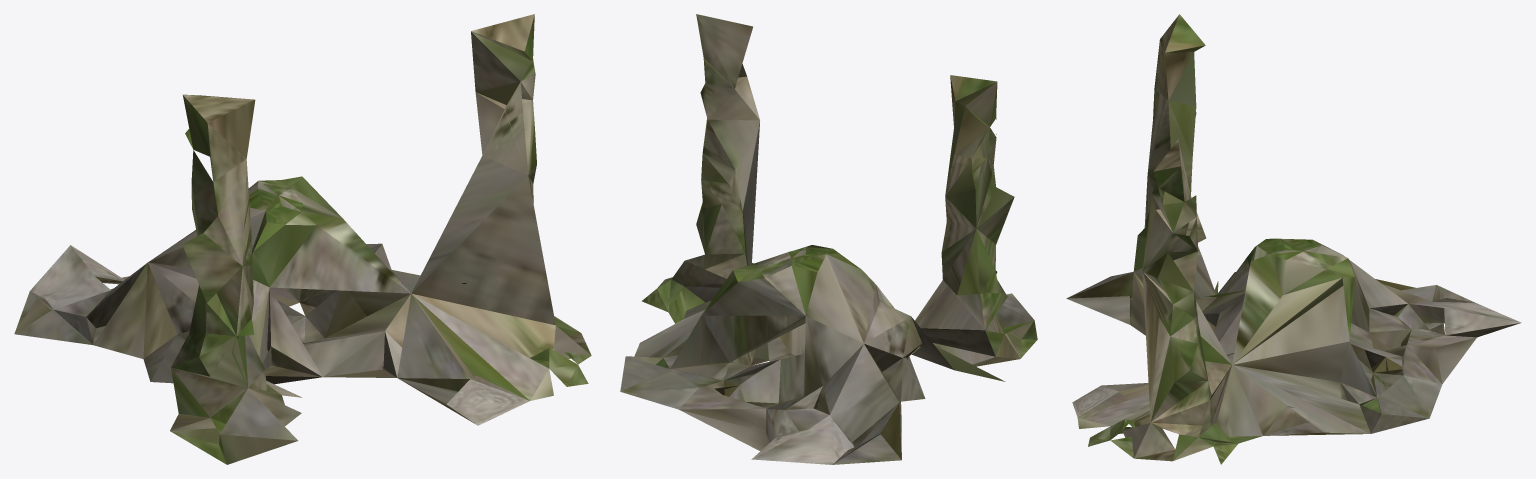
The model's file is ruin.glb.
3 renders of one model, left to right at view 1: azimuth 30°, elevation 25°; view 2: azimuth 150°, elevation 25°; view 3: azimuth 270°, elevation 25°, orthographic. The views are drawn at different scales.
Parts seen in each view (by area): view 1: ruin; view 2: ruin; view 3: ruin.
Part boxes in pixels (x1=…): ruin: x1=14, y1=14, x2=591, y2=464; ruin: x1=620, y1=14, x2=1037, y2=464; ruin: x1=1066, y1=14, x2=1521, y2=464.
Size of the model in its own units: 0.5613 by 0.4286 by 0.607.
Materials: 1 (1 with a texture image).
